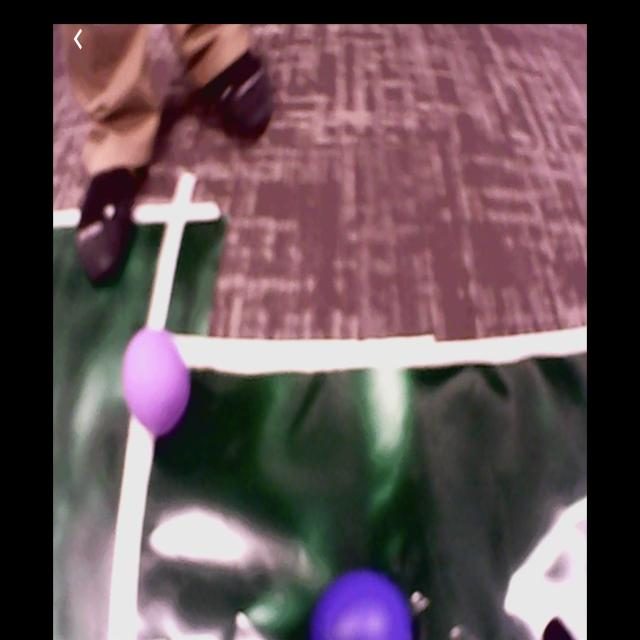ball: (125, 330, 190, 435), (312, 572, 412, 640)
